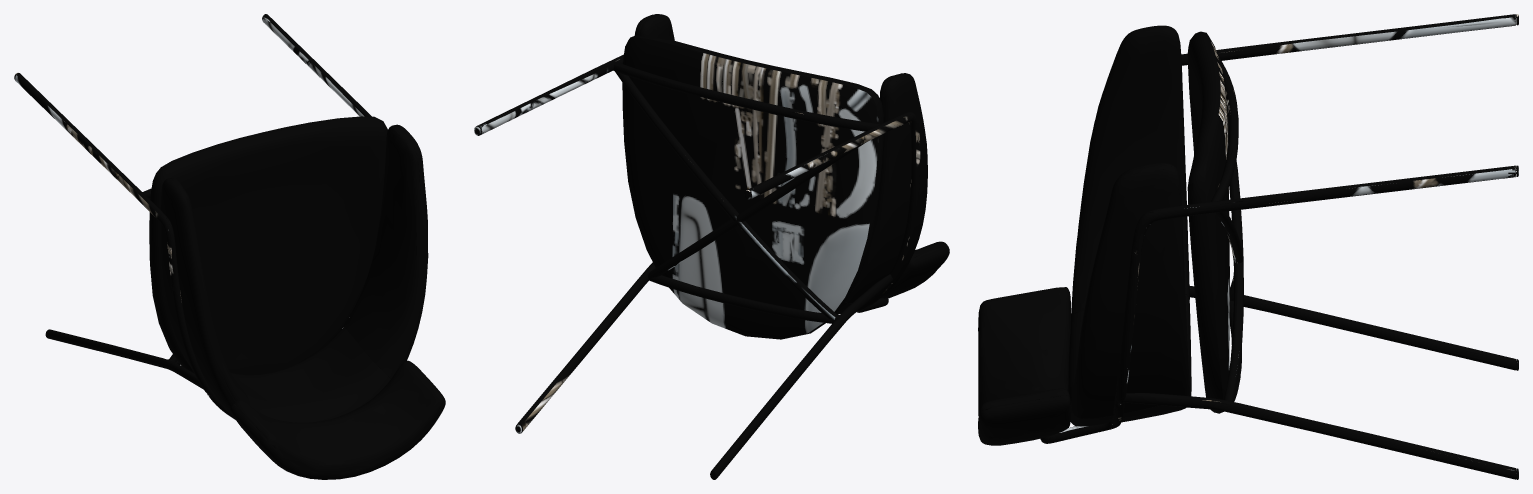
3 renders of one model, left to right at view 1: azimuth 30°, elevation 25°; view 2: azimuth 150°, elevation 25°; view 3: azimuth 270°, elevation 25°, orthographic. The views are drawn at different scales.
Bounding box in the file's own units: 0.5508 × 0.5712 × 0.8204.
